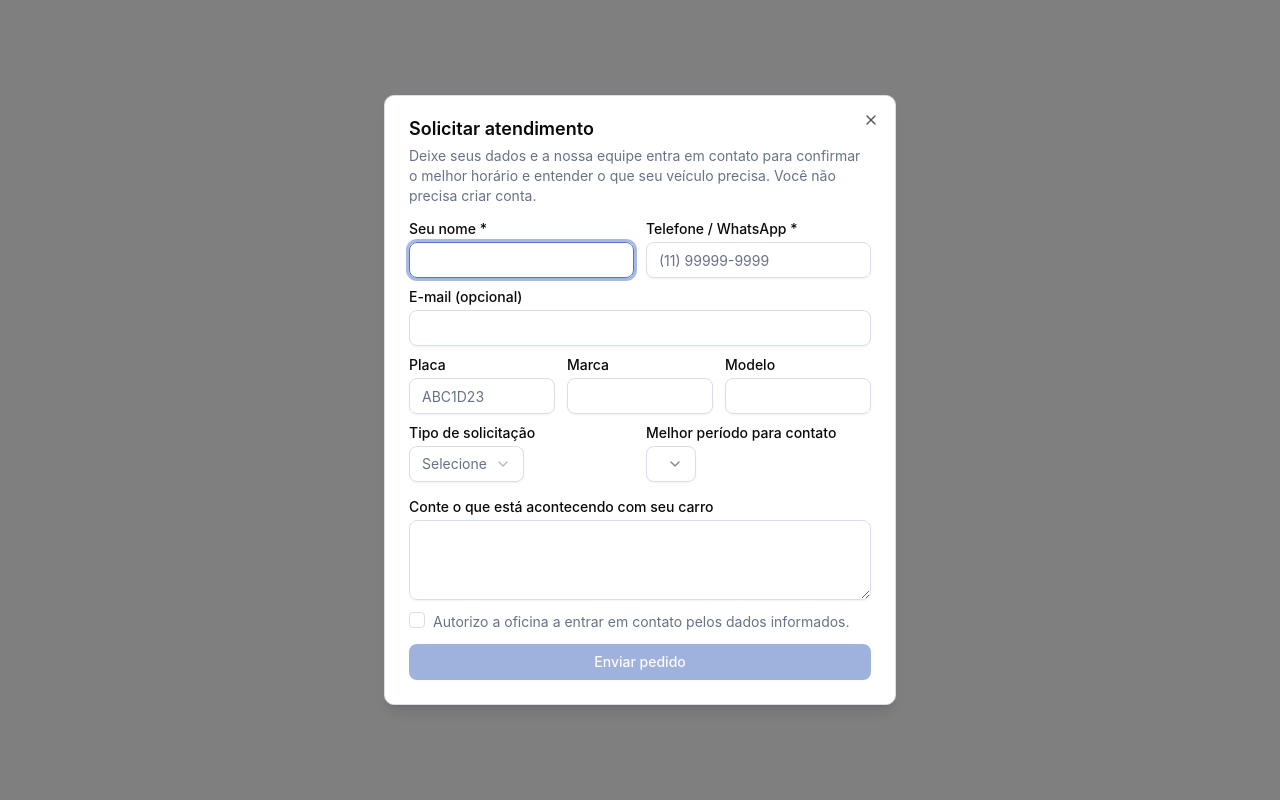
Scenario: PublicRequestForm › submits a contact request without login and shows success
The width and height of the screenshot is (1280, 800).
Type "João Souza" into the field labelled "Seu nome *".
click(522, 260); type("João Souza")  # box [409,242,634,278]
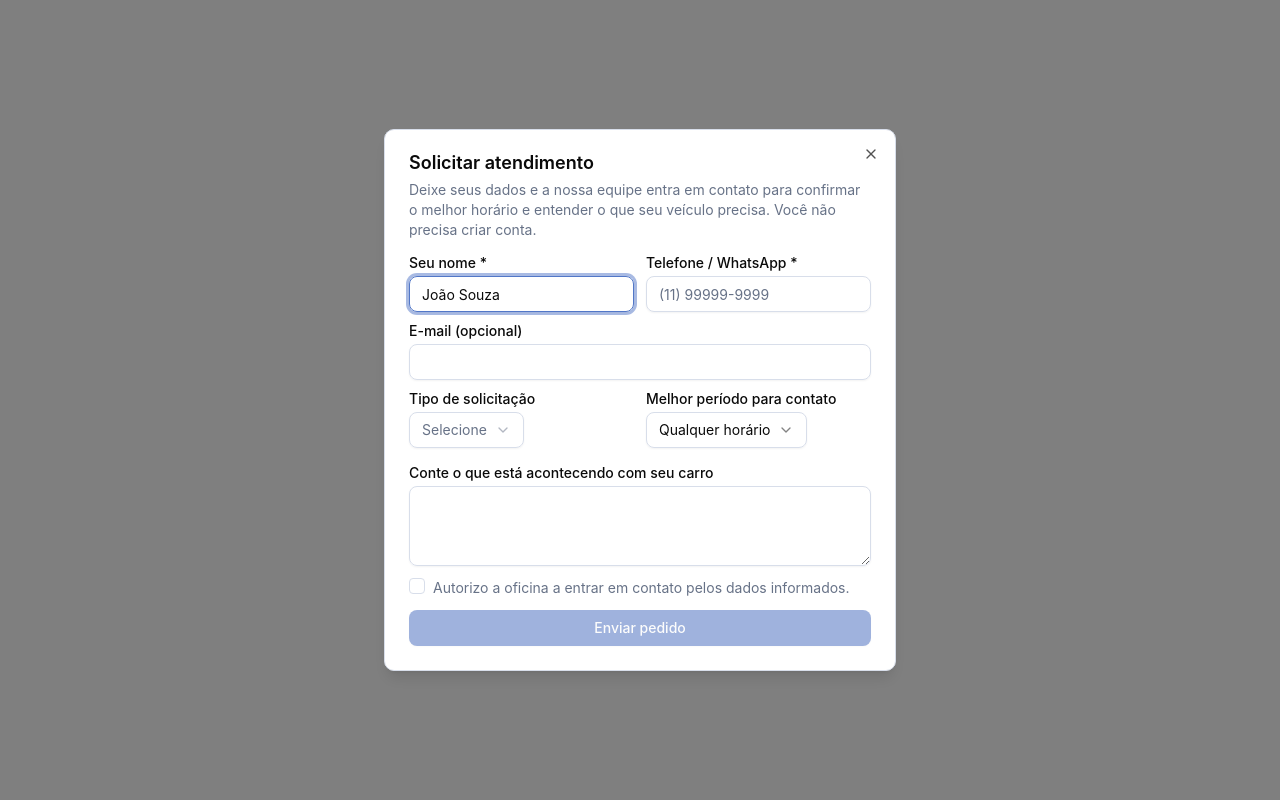
Type "(11) 99999-8888" into the field labelled "Telefone / WhatsApp *".
click(758, 294); type("(11) 99999-8888")  # box [646,276,871,312]
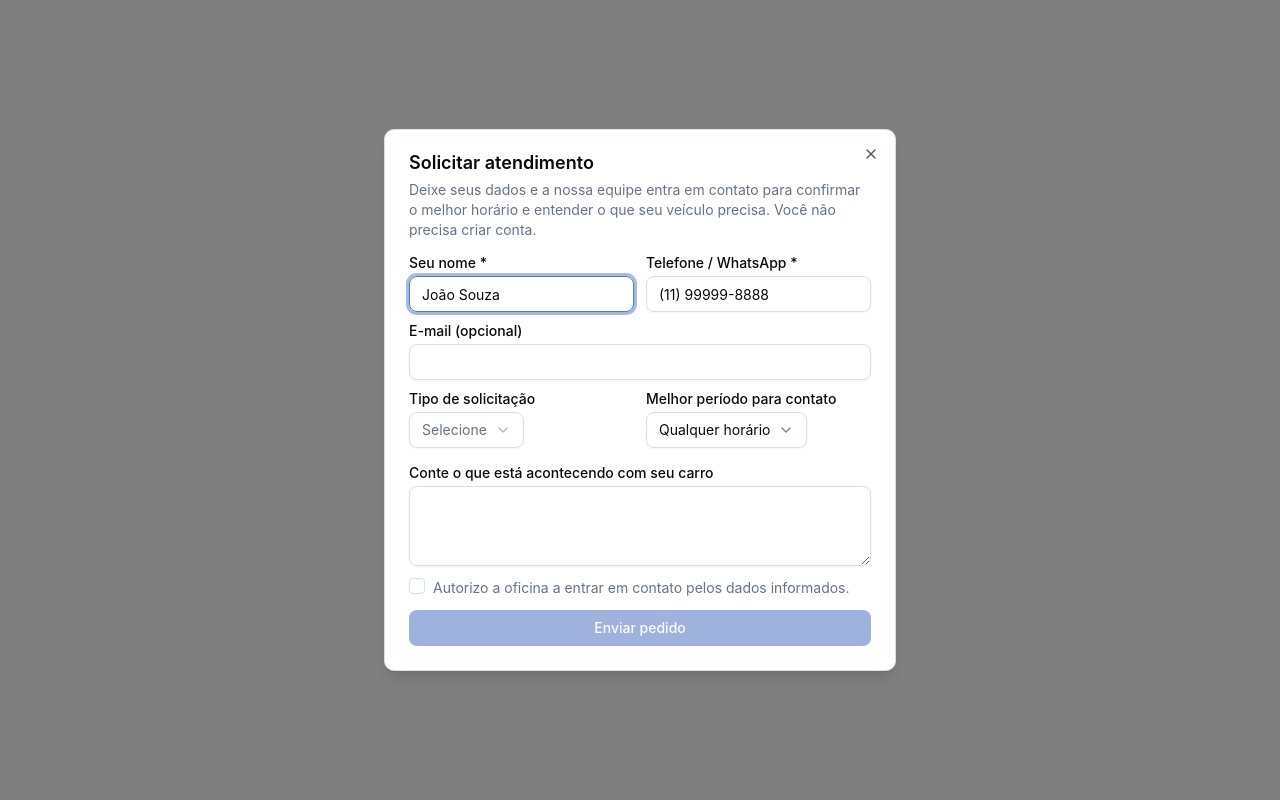
Click the checkbox named "Autorizo o contato".
click(417, 586)  # box [409,578,425,594]
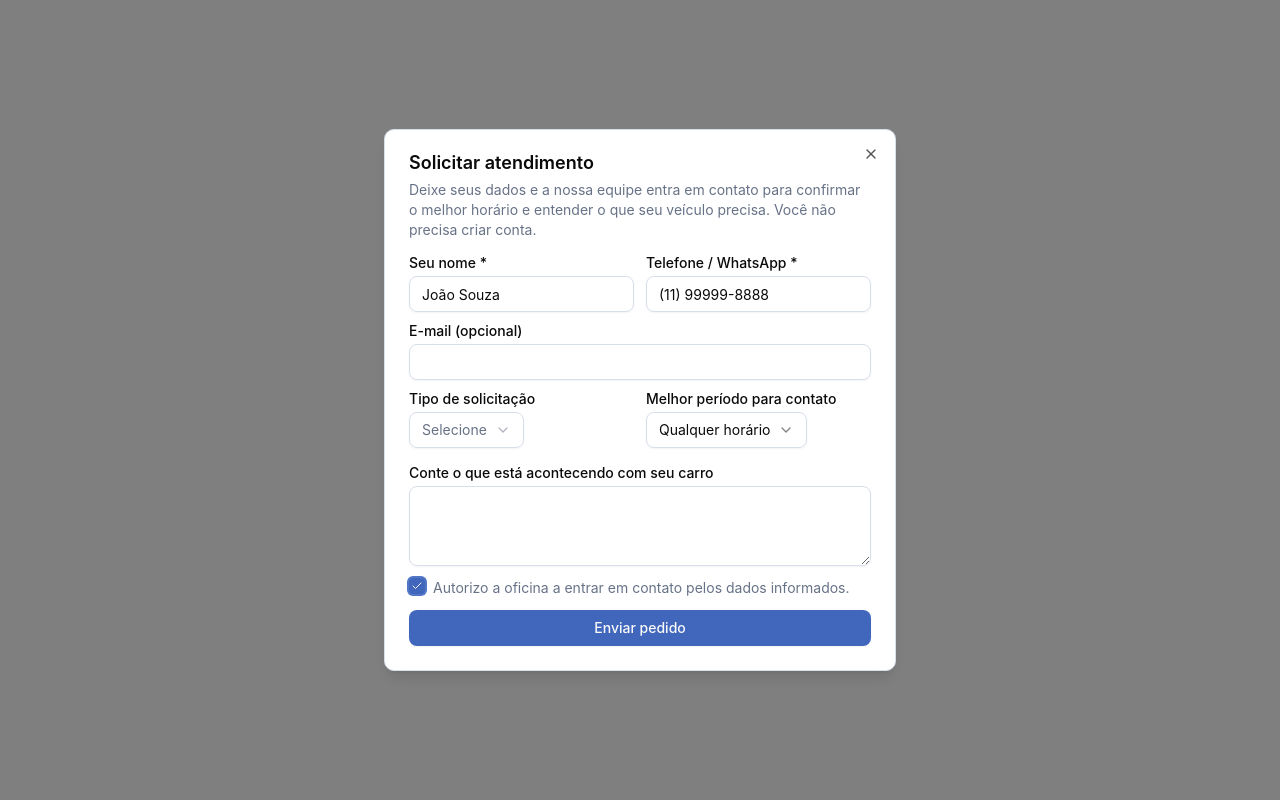
Click the button "Enviar pedido".
click(640, 628)  # box [409,610,871,646]
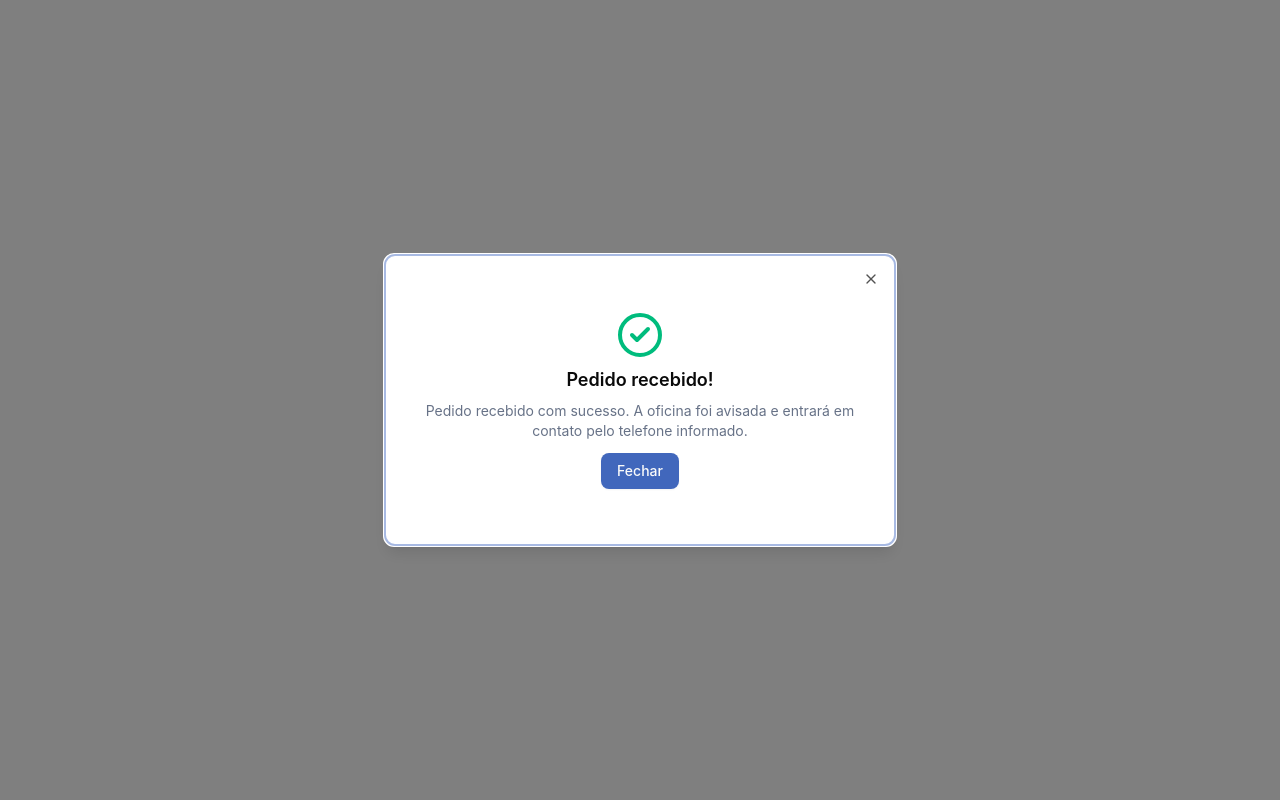
Now the heading "Pedido recebido!" is shown, box [566,371,714,389]
